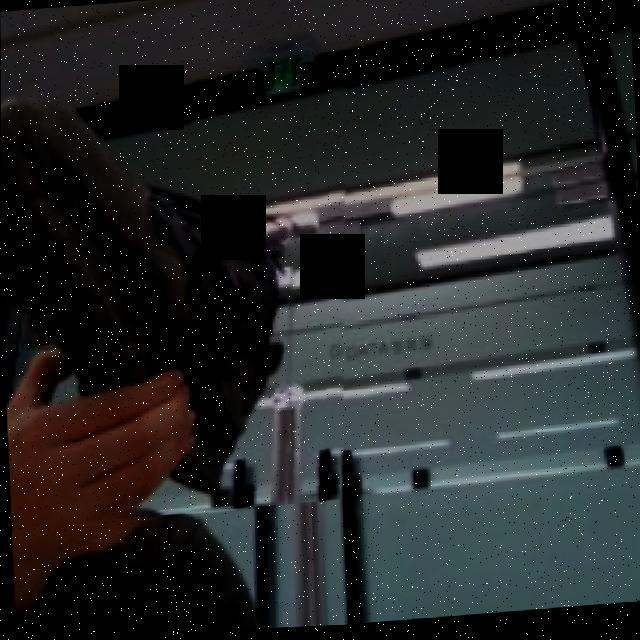shoe: (0, 53, 364, 528)
